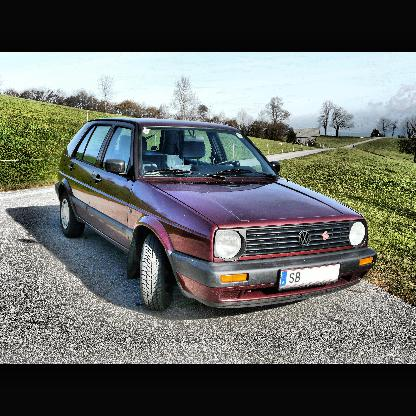Volkswagen Golf Hatchback 1991: (54, 116, 380, 318)
